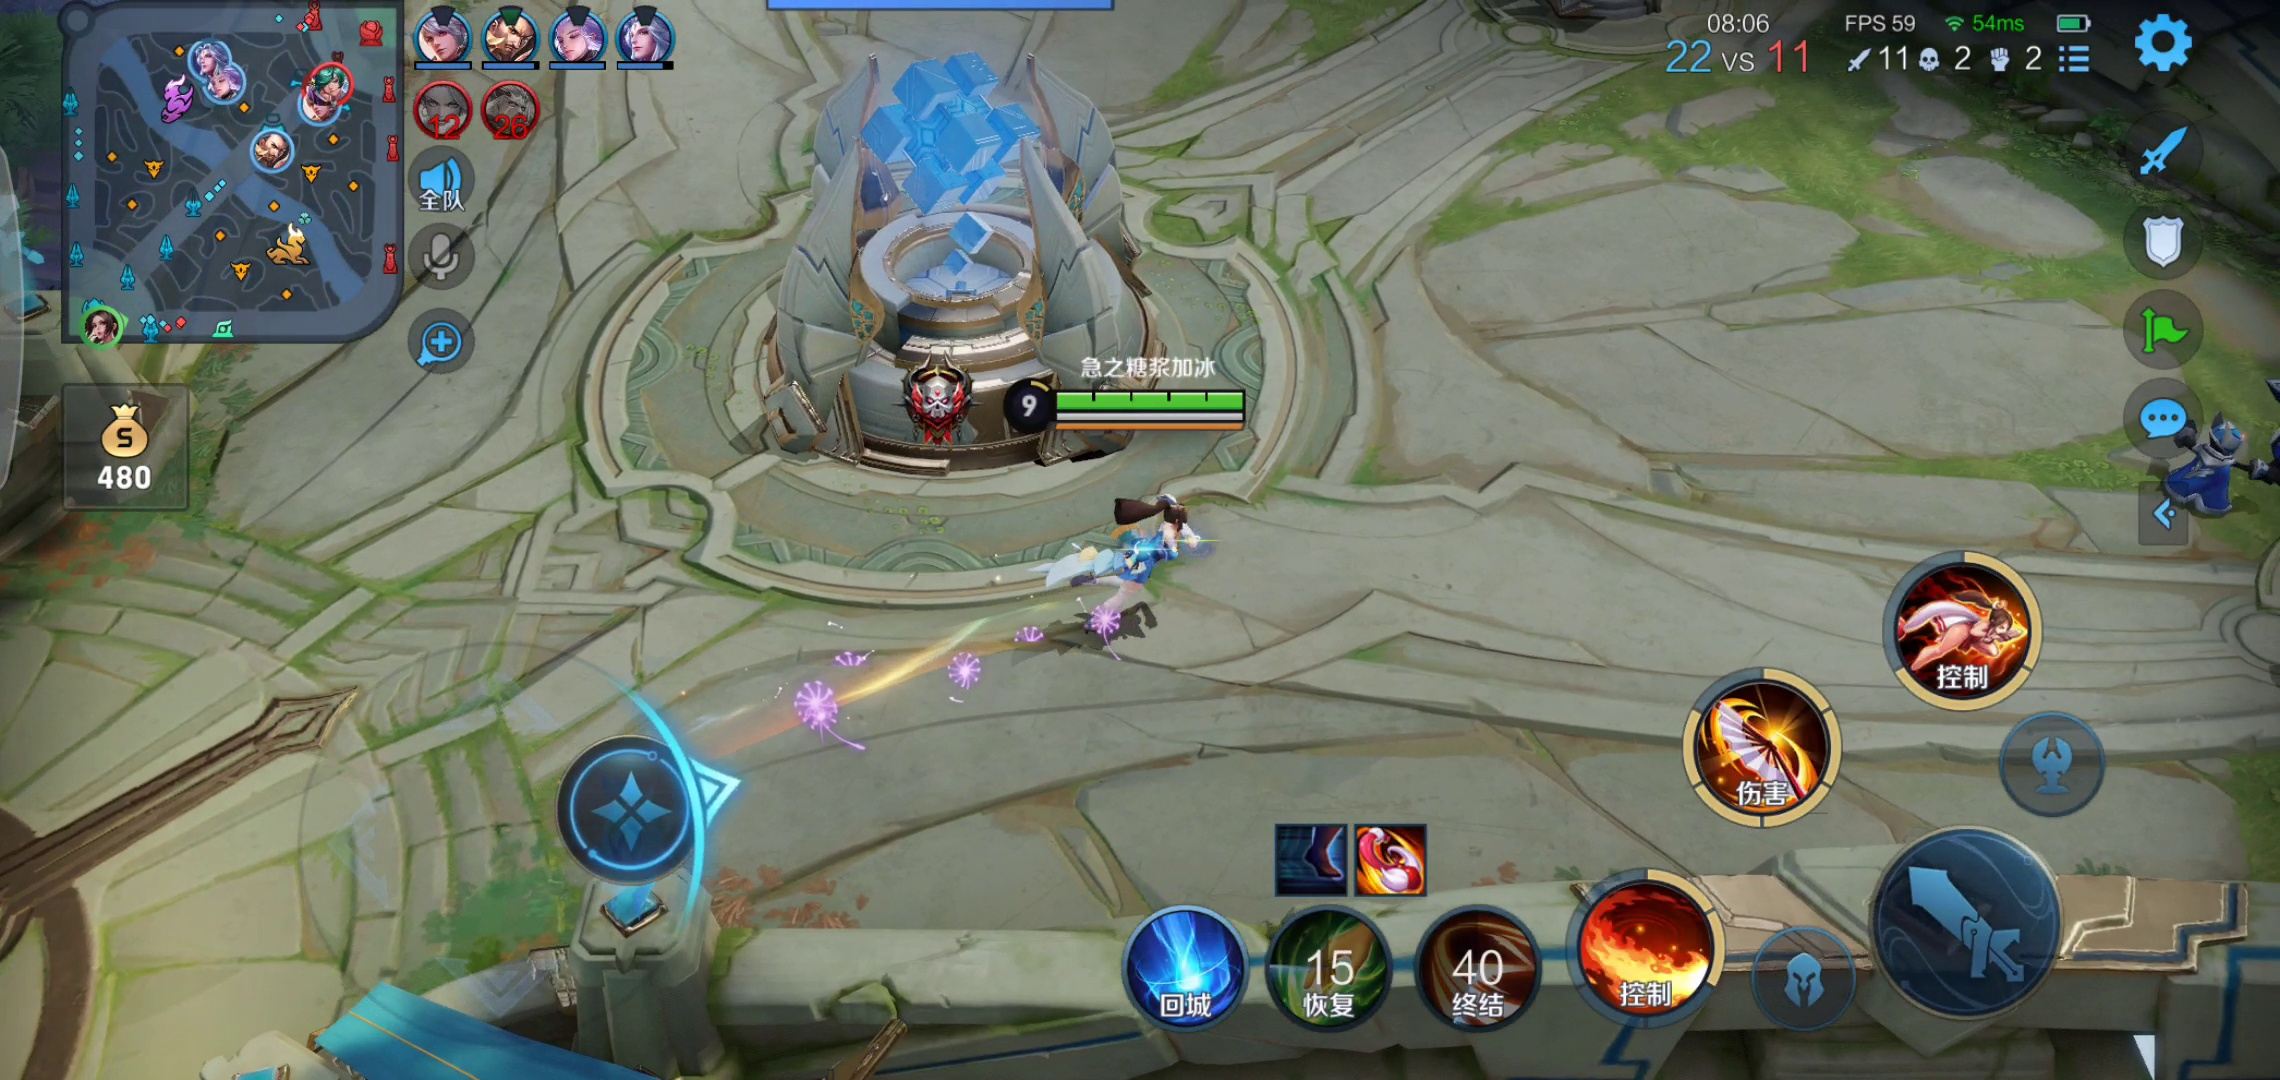crystal: (728, 41, 1192, 465)
hero: (1044, 488, 1195, 648)
soldier: (2145, 398, 2257, 528)
